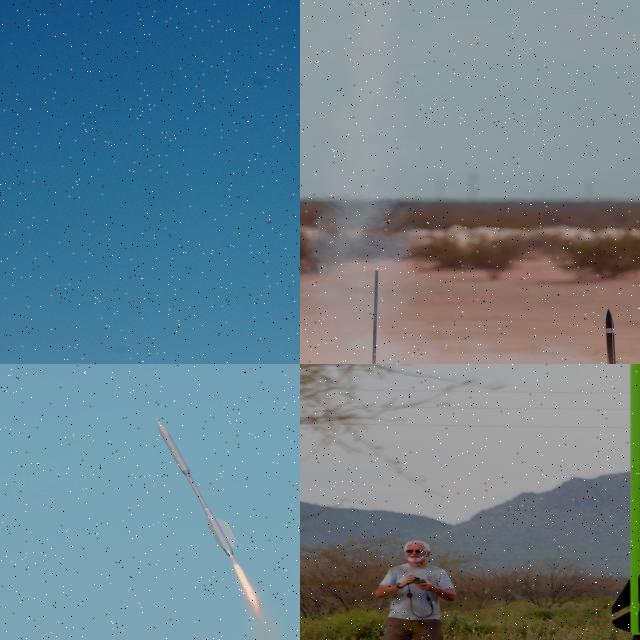Rocket: (154, 417, 237, 558), (609, 364, 640, 640), (601, 308, 628, 364)
